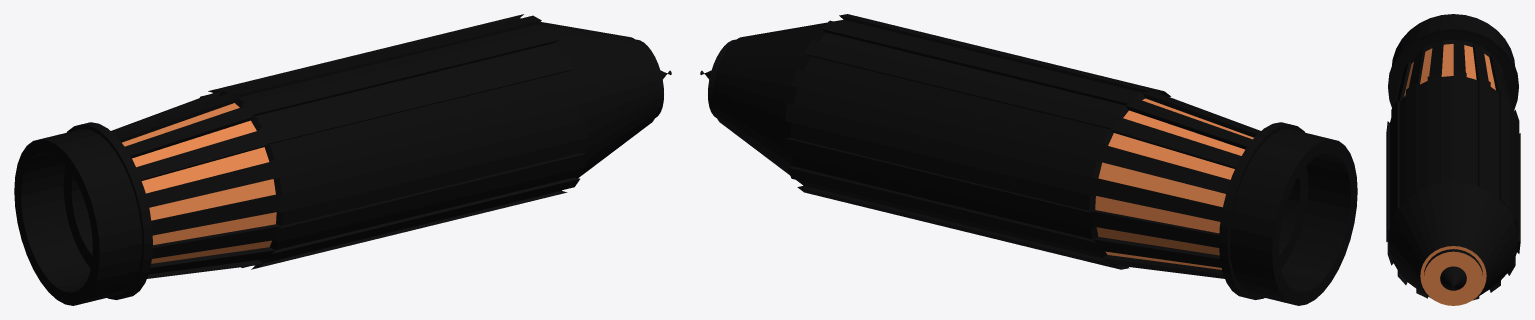
The model's file is MissileModel.fbx.
3 views of the same model, side by side, from view 1: azimuth 30°, elevation 25°; view 2: azimuth 150°, elevation 25°; view 3: azimuth 270°, elevation 25° (orthographic). The views are drawn at different scales.
Parts seen in each view (by area): view 1: MissileModel; view 2: MissileModel; view 3: MissileModel.
Part boxes in pixels (left/top/right/bottom): MissileModel: left=14, top=14, right=671, bottom=305; MissileModel: left=700, top=14, right=1357, bottom=305; MissileModel: left=1386, top=14, right=1520, bottom=305.
Size of the model in its own units: 358 by 93.16 by 93.16.
